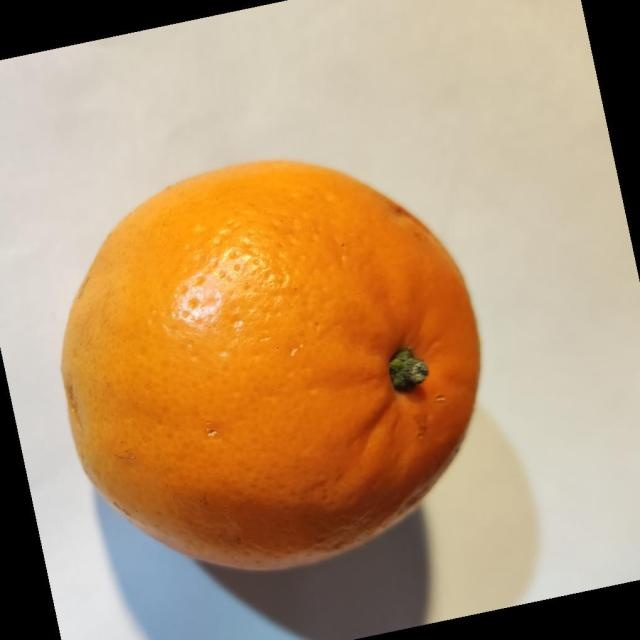agrume: (59, 158, 482, 572)
